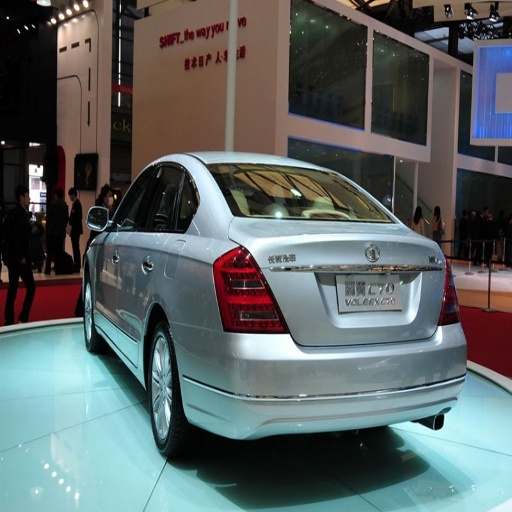back_bumper: (183, 322, 466, 441)
back_glass: (209, 165, 391, 220)
back_left_door: (120, 161, 186, 358)
